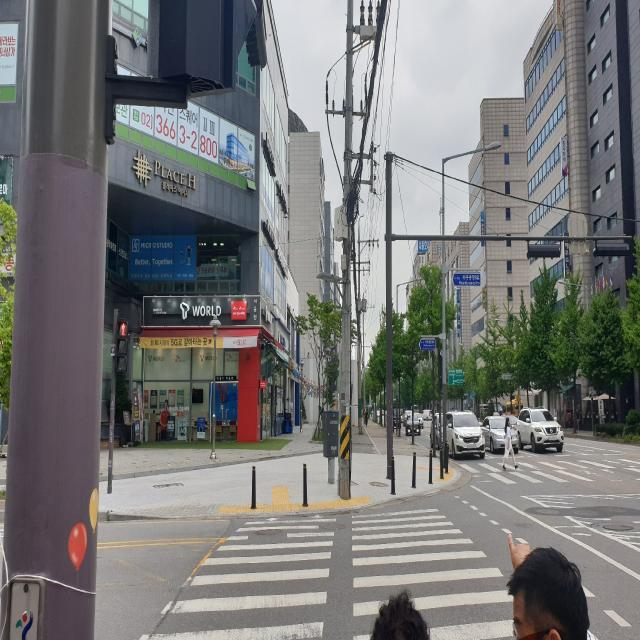횡단보도: (138, 506, 515, 638), (466, 445, 640, 490)
